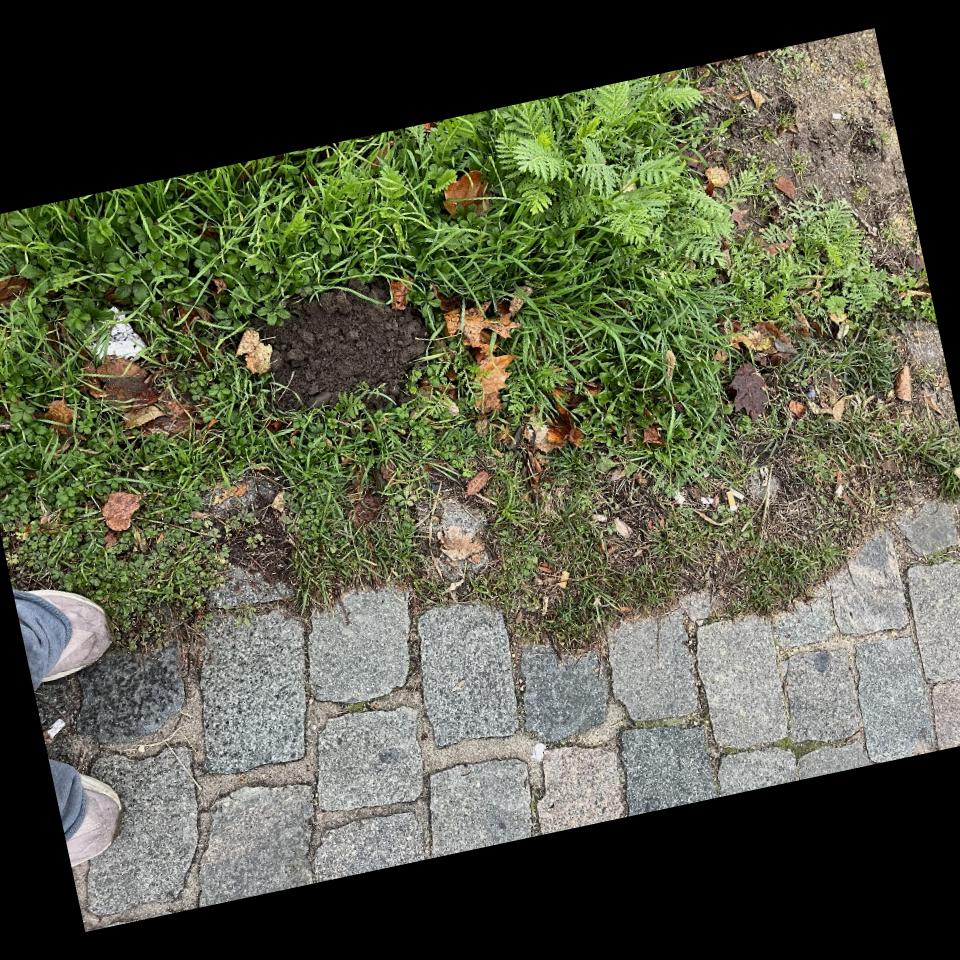weed: (483, 80, 801, 829)
